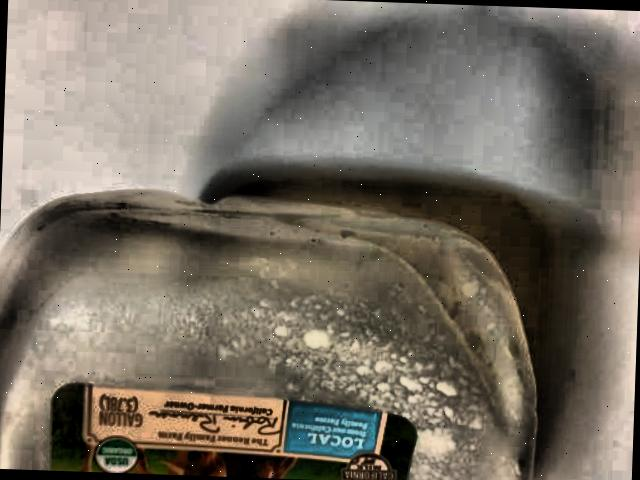Plastic: (0, 158, 553, 480)
